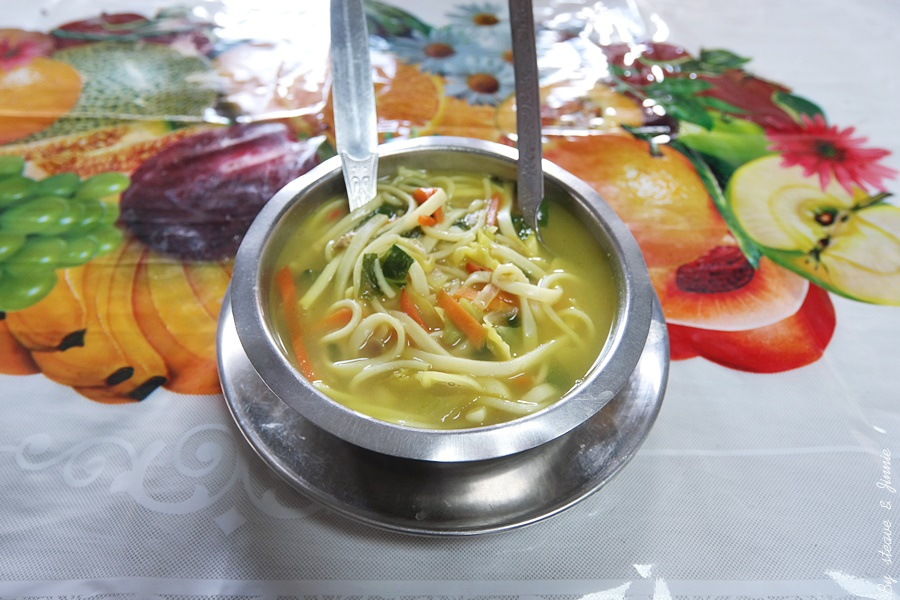plain spaghetti: (287, 170, 589, 410)
